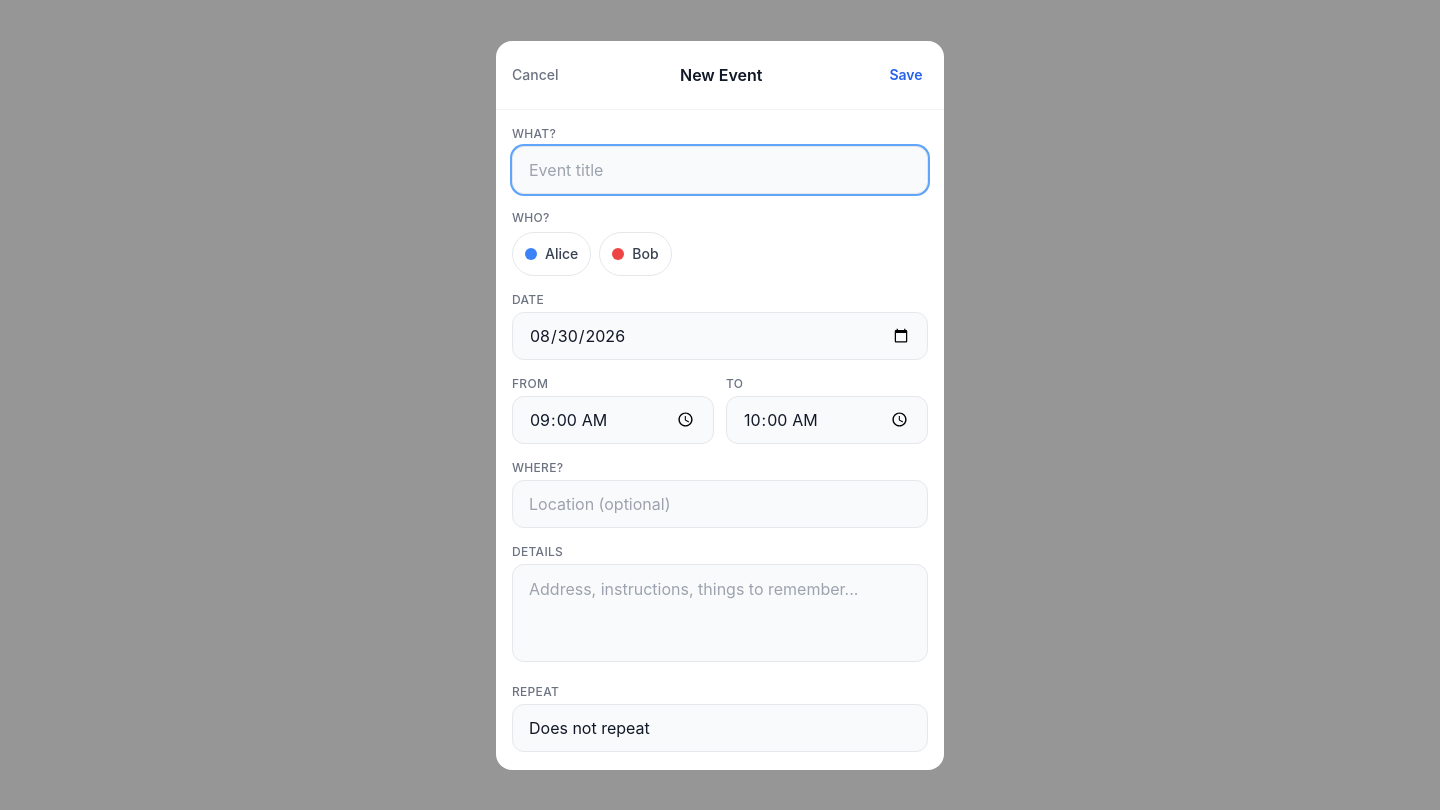
AddEventModal › shows validation error when title is empty
# Title input is empty by default — click save directly
Click the button "Save" at (906, 74), box [884,52,928,96]
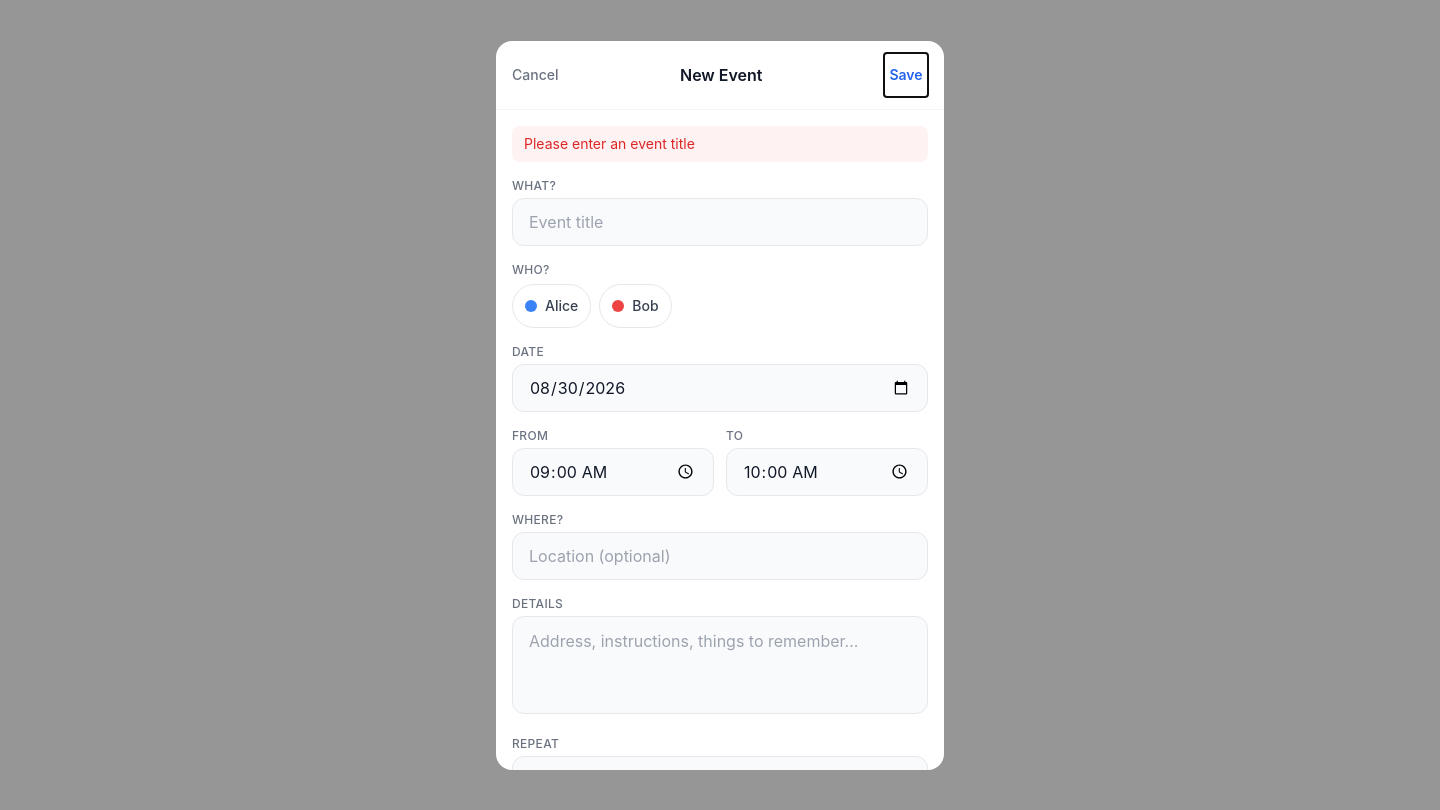
expect the text "Please enter an event title" is shown: met, box [512,126,928,162]
